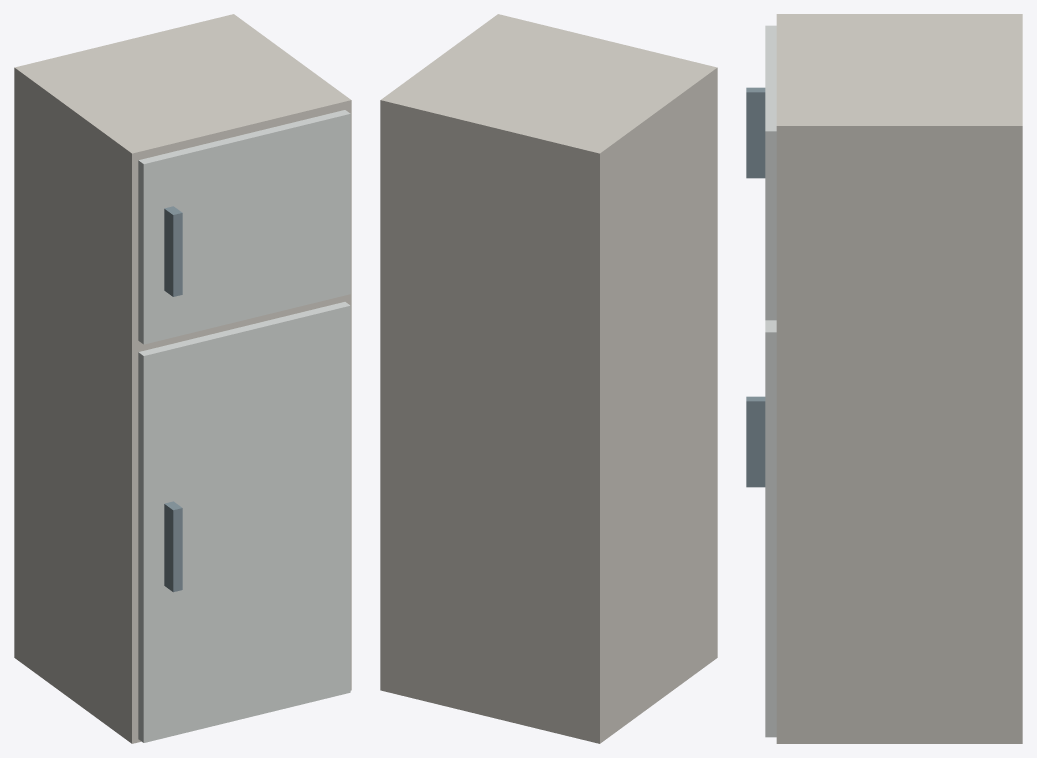
Rendered from refrigerator.glb.
3 views of the same model, side by side, from view 1: azimuth 30°, elevation 25°; view 2: azimuth 150°, elevation 25°; view 3: azimuth 270°, elevation 25° (orthographic). The views are drawn at different scales.
Visible parts, largest first — view 1: refrigerator_000, refrigerator_003, refrigerator_001, refrigerator_002, refrigerator_004; view 2: refrigerator_000; view 3: refrigerator_000, refrigerator_003, refrigerator_001, refrigerator_002, refrigerator_004.
Part boxes in pixels (box(x1,y1,x2,y2)): refrigerator_000: box(14, 14, 351, 743); refrigerator_003: box(138, 302, 350, 742); refrigerator_001: box(138, 110, 350, 344); refrigerator_002: box(164, 206, 182, 296); refrigerator_004: box(164, 501, 182, 592); refrigerator_000: box(380, 14, 717, 743); refrigerator_000: box(776, 14, 1022, 743); refrigerator_003: box(765, 320, 776, 737); refrigerator_001: box(765, 25, 776, 320); refrigerator_002: box(746, 87, 765, 178); refrigerator_004: box(746, 396, 765, 487).
Bounding box in the file's own units: 0.7 × 1.8 × 0.73.
